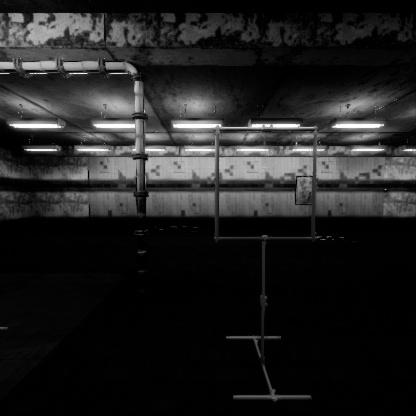gate: (215, 174, 327, 289)
